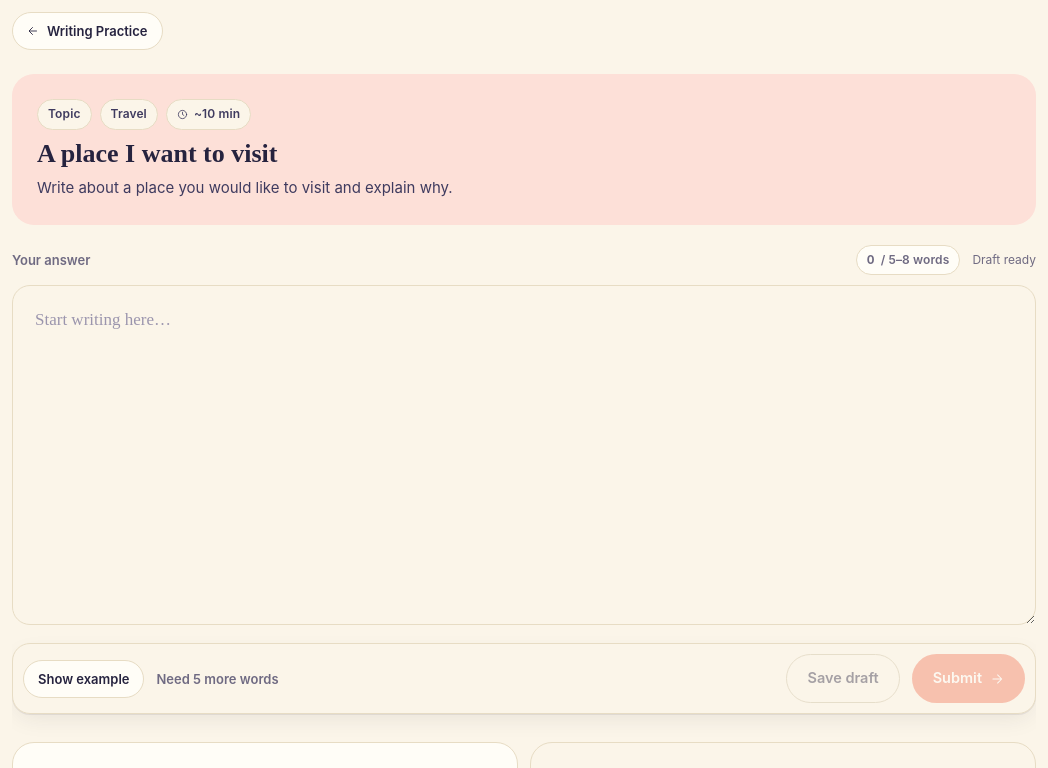
TaskRoute › keeps the learner on the page when a manual draft save fails
Type "one two three four five" into the text box with placeholder "Start writing here…" at (524, 455), box [12,285,1036,625]
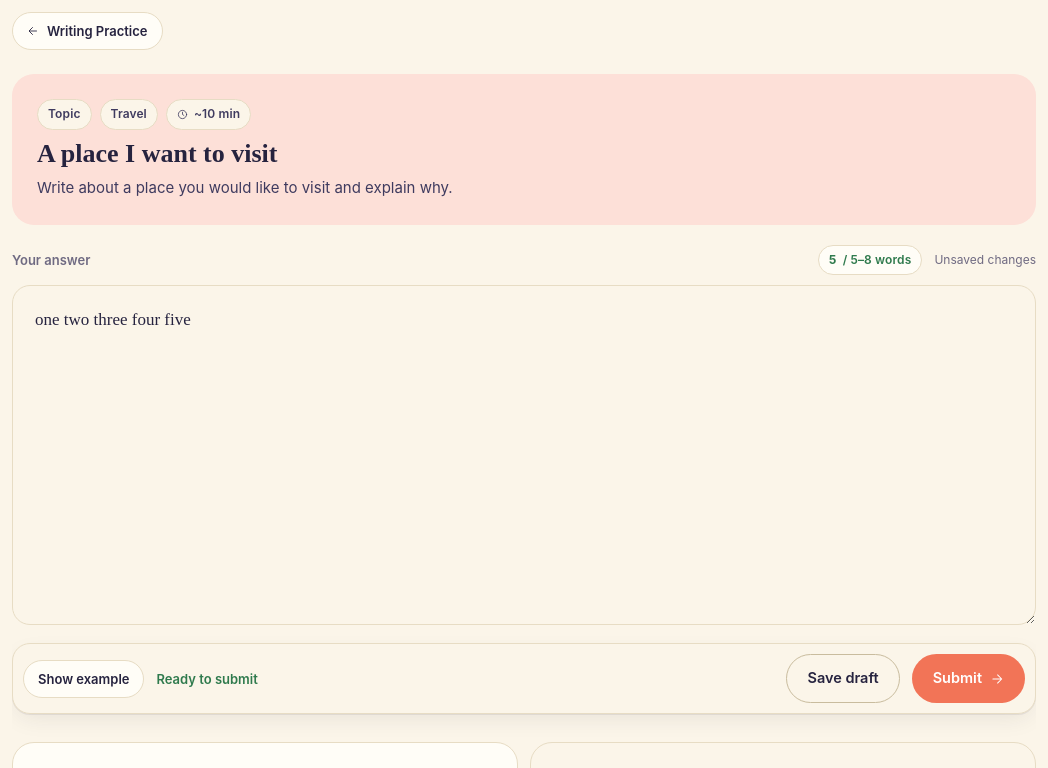
Click the button "Save draft" at (843, 679), box [786,654,900,703]
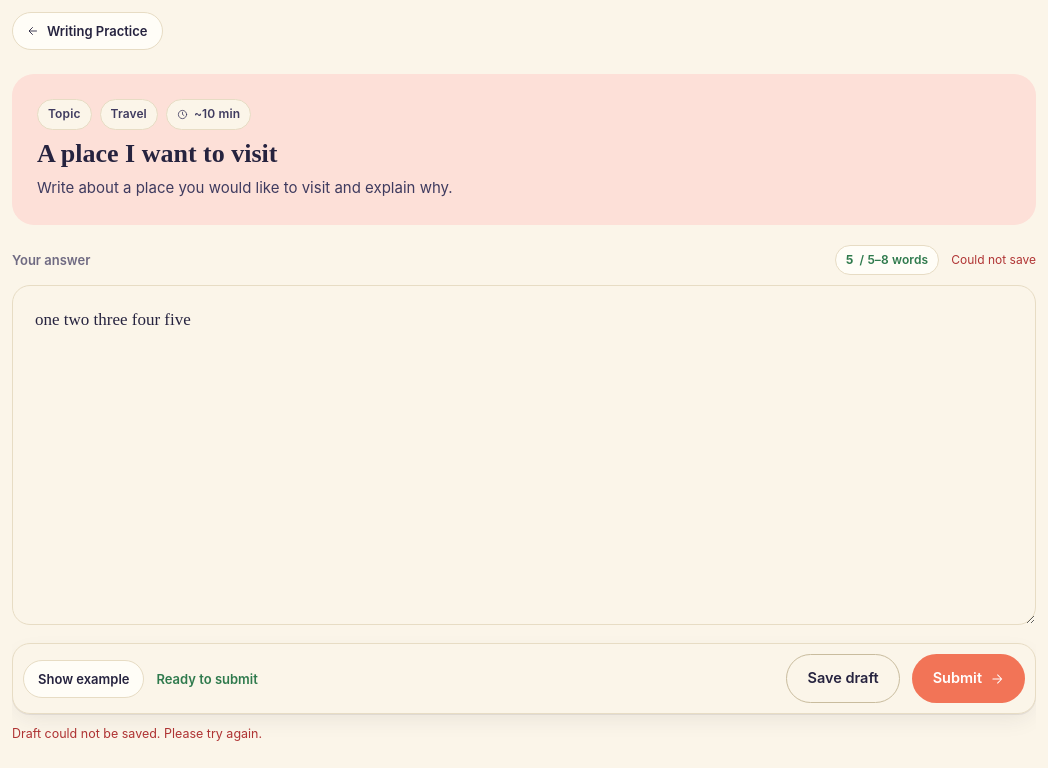
Result: the text "Draft could not be saved. Please try again." is shown at [12,726,262,741]
